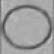no answer: (1, 2, 54, 54)
